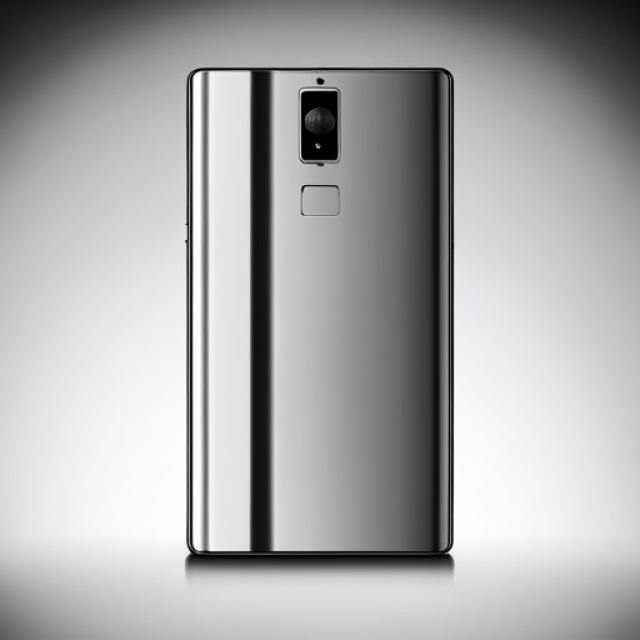phone: (185, 66, 454, 556)
